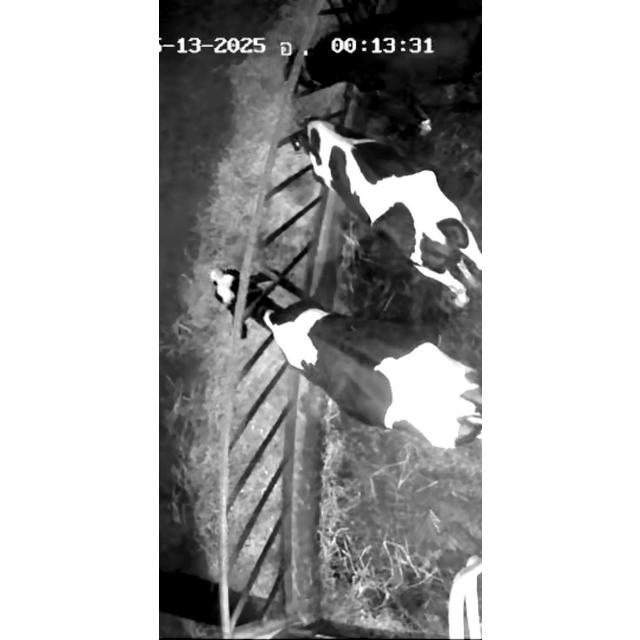eat: (179, 231, 329, 373), (238, 101, 386, 199), (258, 16, 398, 88)
